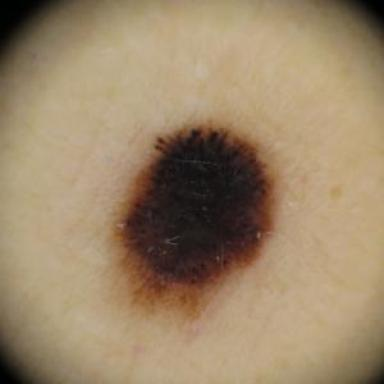Melanoma: (115, 125, 275, 300)
